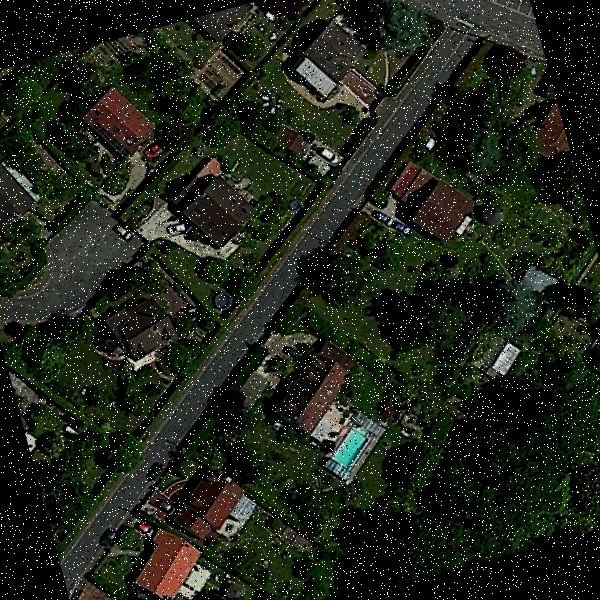Buildings: (266, 348, 358, 426), (391, 157, 467, 245), (80, 80, 152, 158), (290, 17, 362, 94), (186, 172, 254, 248), (104, 298, 180, 358), (173, 475, 241, 533), (140, 538, 198, 592), (524, 98, 571, 160), (193, 2, 258, 44), (0, 167, 37, 228)
